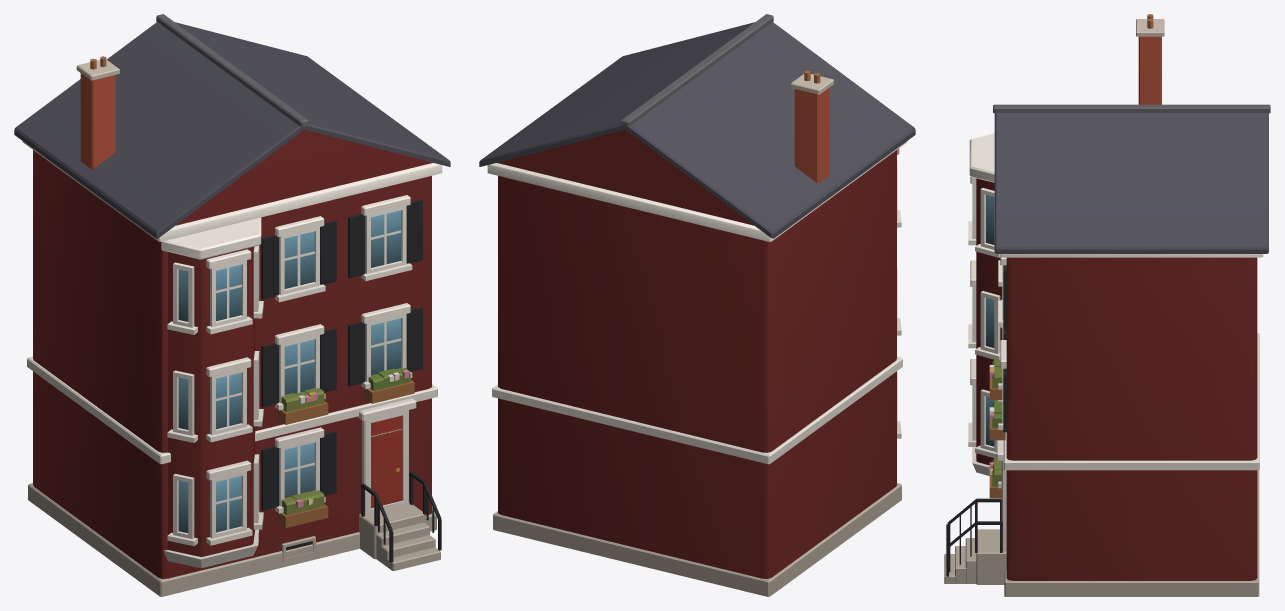
Rendered from lane_w7.glb.
3 views of the same model, side by side, from view 1: azimuth 30°, elevation 25°; view 2: azimuth 150°, elevation 25°; view 3: azimuth 270°, elevation 25° (orthographic). The views are drawn at different scales.
Parts seen in each view (by area): view 1: lane_w7; view 2: lane_w7; view 3: lane_w7.
Boxes of the visible parts, left/top/right/bottom form: lane_w7: left=14, top=14, right=450, bottom=596; lane_w7: left=479, top=14, right=915, bottom=596; lane_w7: left=944, top=14, right=1270, bottom=596.
Size of the model in its own units: 9.7 by 15.07 by 9.76.
1 material, 1 textured.
